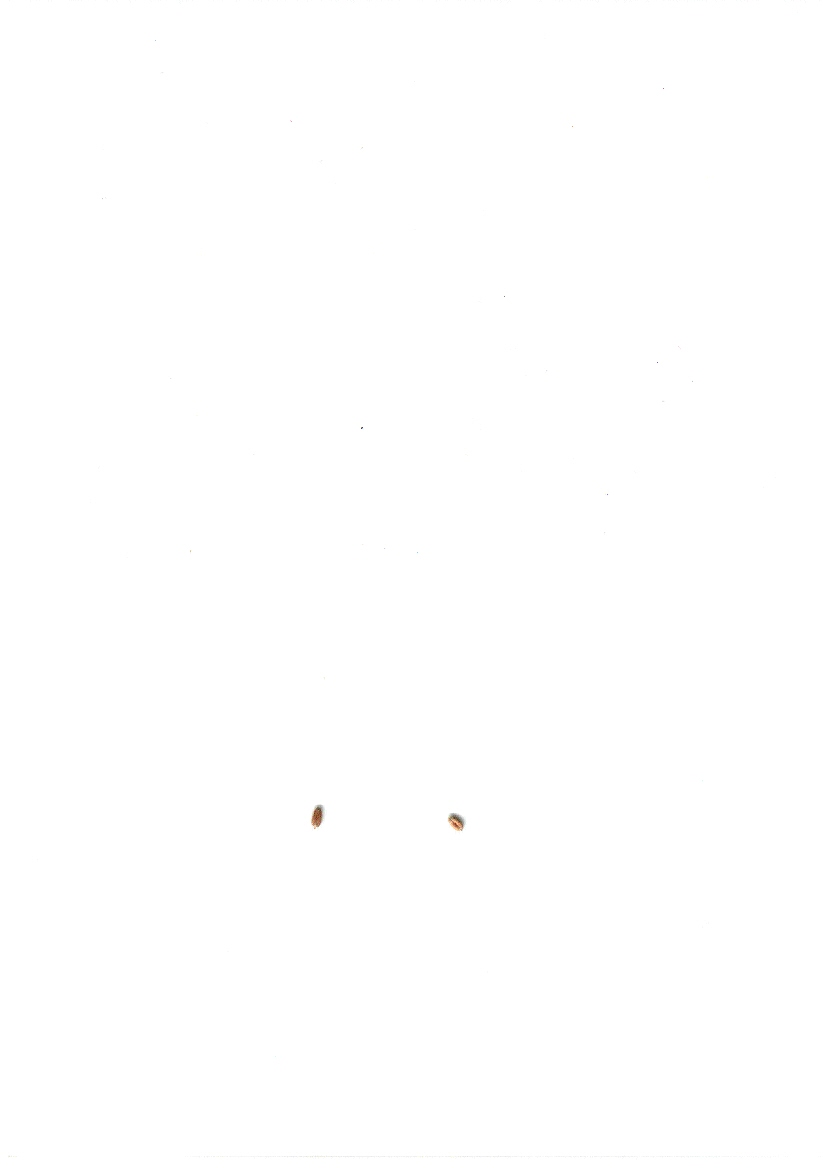grains: (299, 795, 332, 837), (433, 808, 475, 840)
